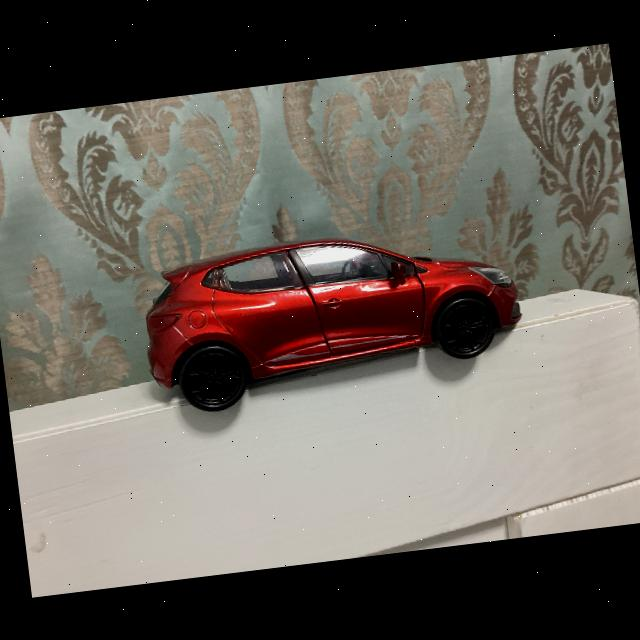Dogru_Jant: (184, 350, 242, 405), (440, 302, 490, 353)
